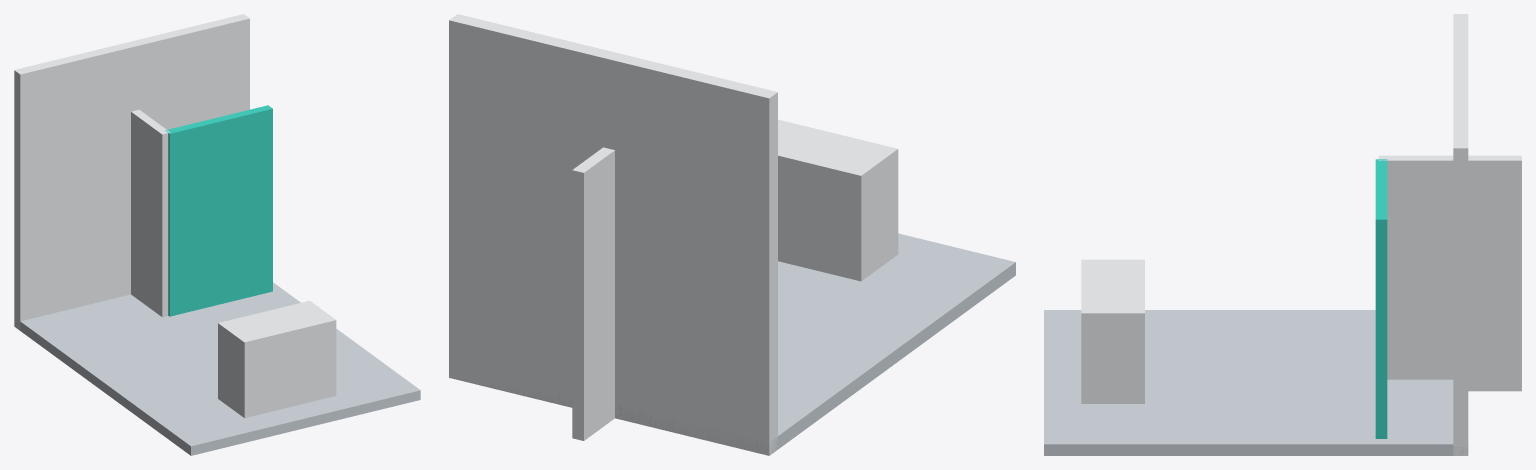
The picture shows the model from 3 angles, left to right: view 1: azimuth 30°, elevation 25°; view 2: azimuth 150°, elevation 25°; view 3: azimuth 270°, elevation 25°; orthographic projection. The views are drawn at different scales.
Parts seen in each view (by area): view 1: Exhibition Booth Concept; view 2: Exhibition Booth Concept; view 3: Exhibition Booth Concept.
Boxes of the visible parts, x1,y1,x2,y2 form: Exhibition Booth Concept: [14, 14, 420, 455]; Exhibition Booth Concept: [449, 14, 1015, 455]; Exhibition Booth Concept: [1044, 14, 1521, 455].
Size of the model in its own units: 3 by 3.2 by 4.51.
